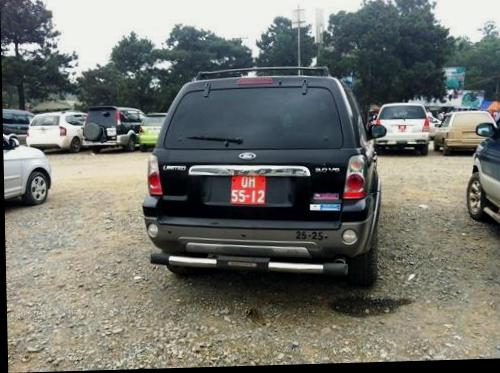License_Plate: (230, 173, 269, 204)
